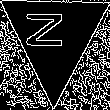N_E: (32, 17, 77, 58)
